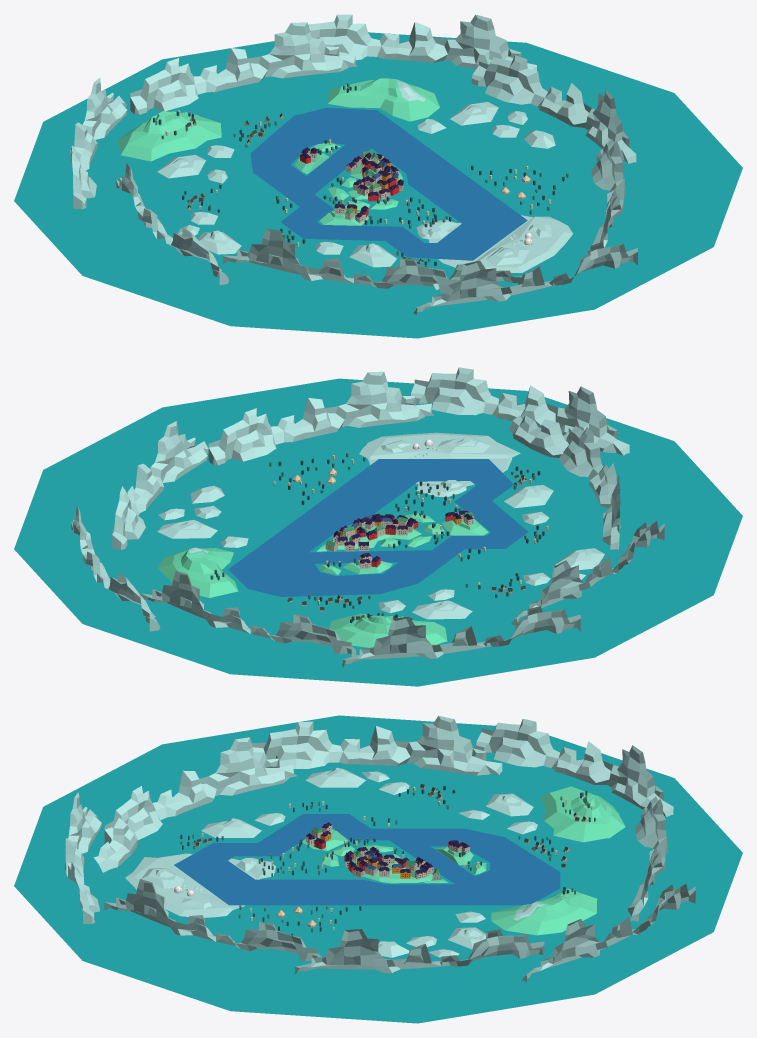
File: map01.fbx
3 views of the same model, one above another, from view 1: azimuth 30°, elevation 25°; view 2: azimuth 150°, elevation 25°; view 3: azimuth 270°, elevation 25° (orthographic).
Parts seen in each view (by area): view 1: Plane.001, Plane, Plane.002, Plane.005, Plane.003, Plane.007, Plane.009, Vert.021, Plane.008, Vert.011, Vert.015, Plane.006 (+6 smaller); view 2: Plane.001, Plane, Plane.004, Plane.009, Plane.008, Plane.003, Plane.002, Vert.011, Plane.007, Plane.006, Vert.015, Vert.021 (+8 smaller); view 3: Plane.001, Plane, Plane.006, Plane.008, Plane.007, Plane.003, Plane.004, Vert.021, Plane.005, Vert.011, Vert.015, Plane.009 (+7 smaller).
Boxes of the visible parts, x1,y1,x2,y2 form: Plane.001: (14,32,742,338); Plane: (250,107,527,260); Plane.002: (130,22,357,114); Plane.005: (308,14,536,71); Plane.003: (471,55,636,163); Plane.007: (223,228,459,292); Plane.009: (413,242,637,314); Vert.021: (117,111,221,161); Plane.008: (70,77,127,209); Vert.011: (416,215,573,272); Vert.015: (327,78,439,121); Plane.006: (116,163,229,285); Plane.001: (14,378,742,686); Plane: (228,459,527,596); Plane.004: (208,371,434,465); Plane.009: (410,367,629,455); Plane.008: (341,606,580,667); Plane.003: (112,421,208,549); Plane.002: (140,571,356,656); Vert.011: (359,432,520,497); Plane.007: (558,426,620,549); Plane.006: (511,521,664,625); Vert.015: (158,548,238,597); Vert.021: (329,613,447,647); Plane.001: (14,715,742,1023); Plane: (174,814,560,905); Plane.006: (252,715,502,775); Plane.008: (475,719,673,816); Plane.007: (104,737,297,843); Plane.003: (294,929,544,974); Plane.004: (104,879,321,960); Vert.021: (539,786,625,842); Plane.005: (522,884,695,982); Vert.011: (125,853,275,917); Vert.015: (491,888,597,935); Plane.009: (65,792,101,923).
Size of the model in its own units: 832 by 61.3 by 832.
